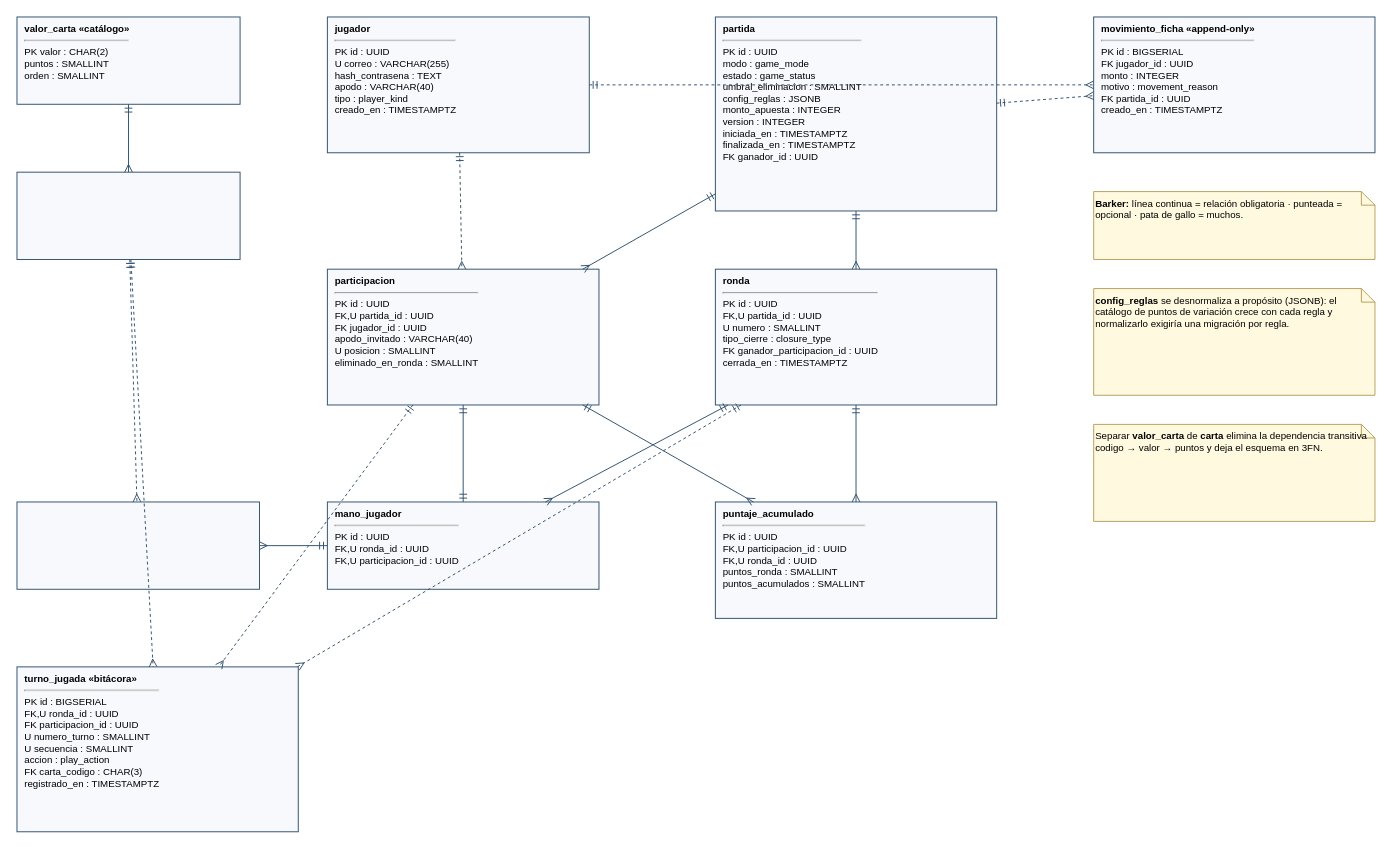
This 1392x849 diagram has some shape labels left out. The centre of each missing label's shape, as x and y in pixels:
carta «catálogo» PK codigo : CHAR(3) FK valor : CHAR(2) palo : CHAR(1): the point at 128,215
mano_carta PK,FK mano_id : UUID PK,FK carta_codigo : CHAR(3) posicion : SMALLINT: the point at 137,545
